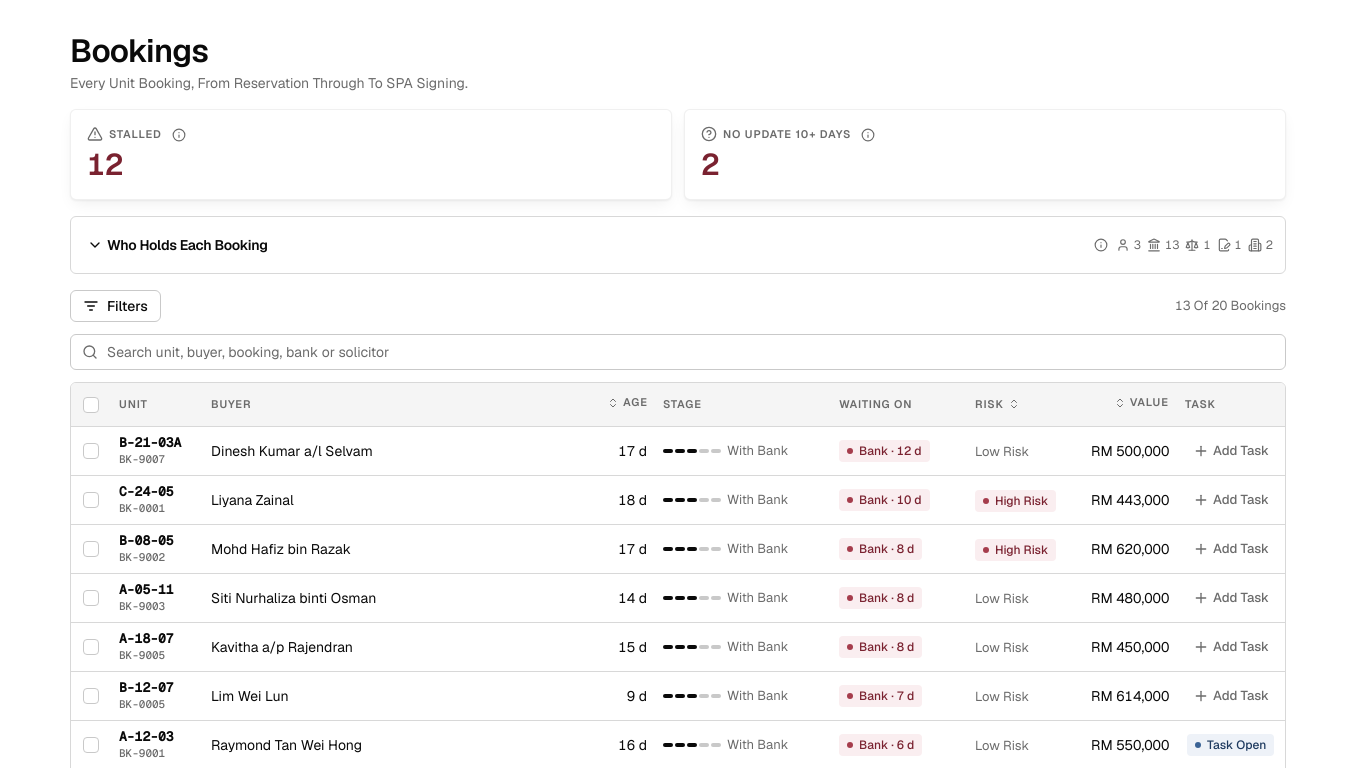
Test case: BookingsPage › selects a row without opening its quick view and offers bulk actions
Expected: the text "BK-9001" is shown, 119,746 -> 165,760
Click the checkbox named "Select BK-9001" at (91, 745), box 83,737 -> 99,753
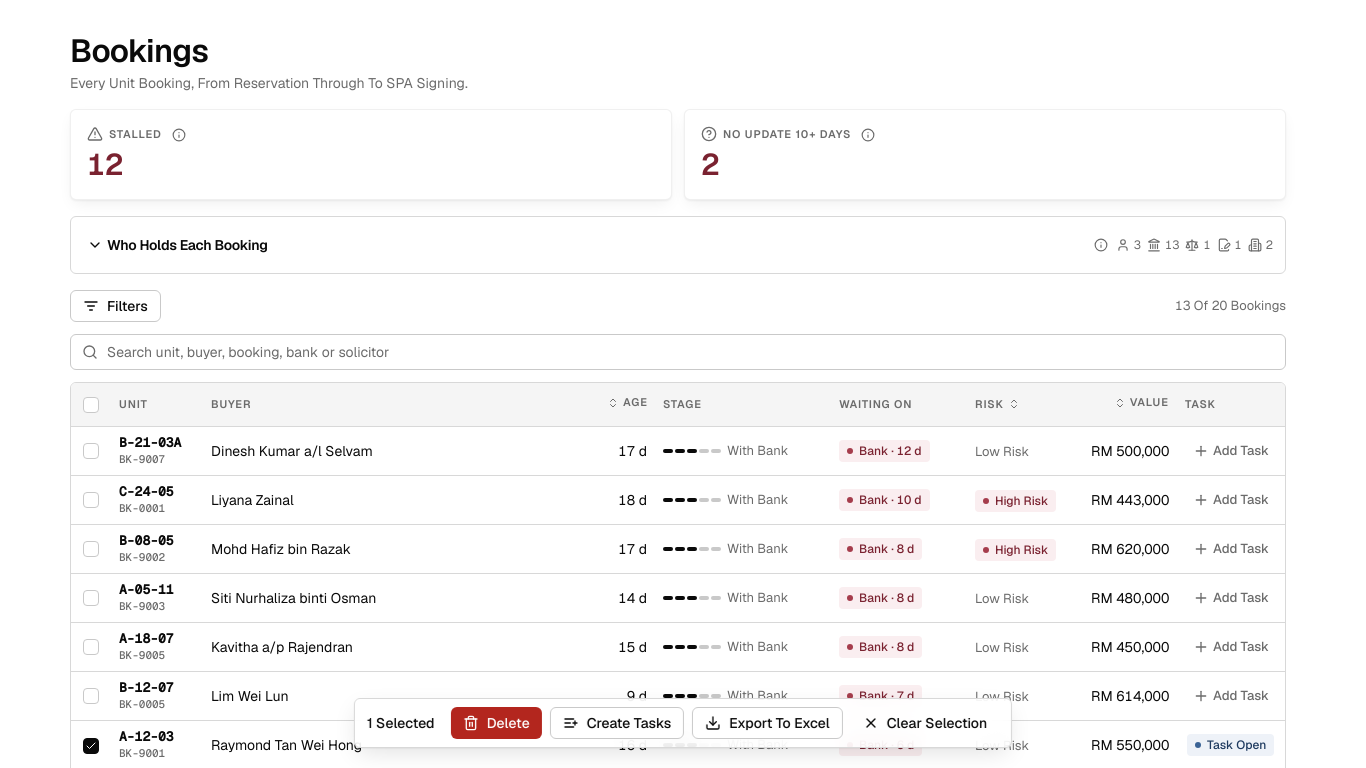
Expected: the element named "Selected bookings actions" shows "1 Selected", 354,698 -> 1012,748
Expected: the button "Create Tasks" is shown, 550,707 -> 684,739
Expected: the button "Export To Excel" is shown, 692,707 -> 843,739
